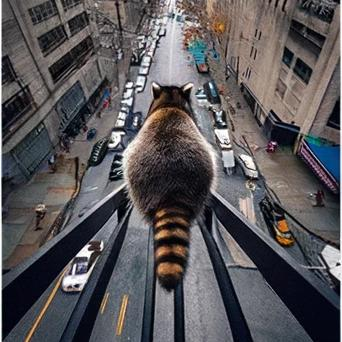raccoon: (115, 77, 224, 297)
